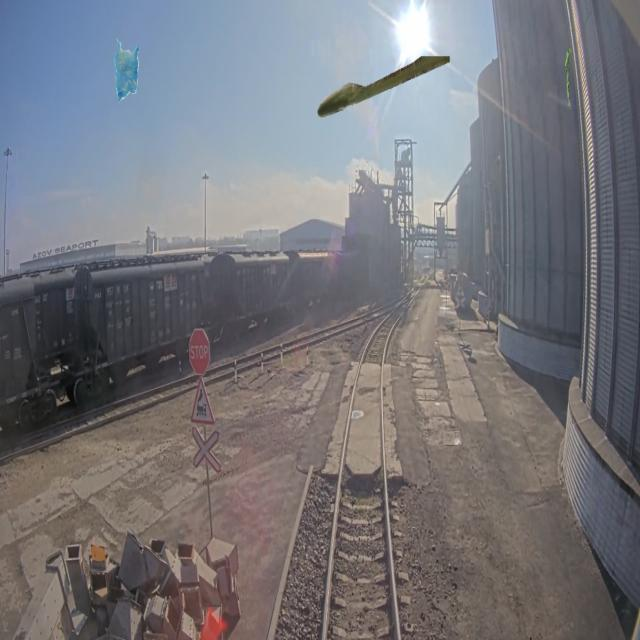floating object: (316, 56, 452, 120), (564, 48, 572, 112)
plastic bag: (114, 38, 140, 102)
